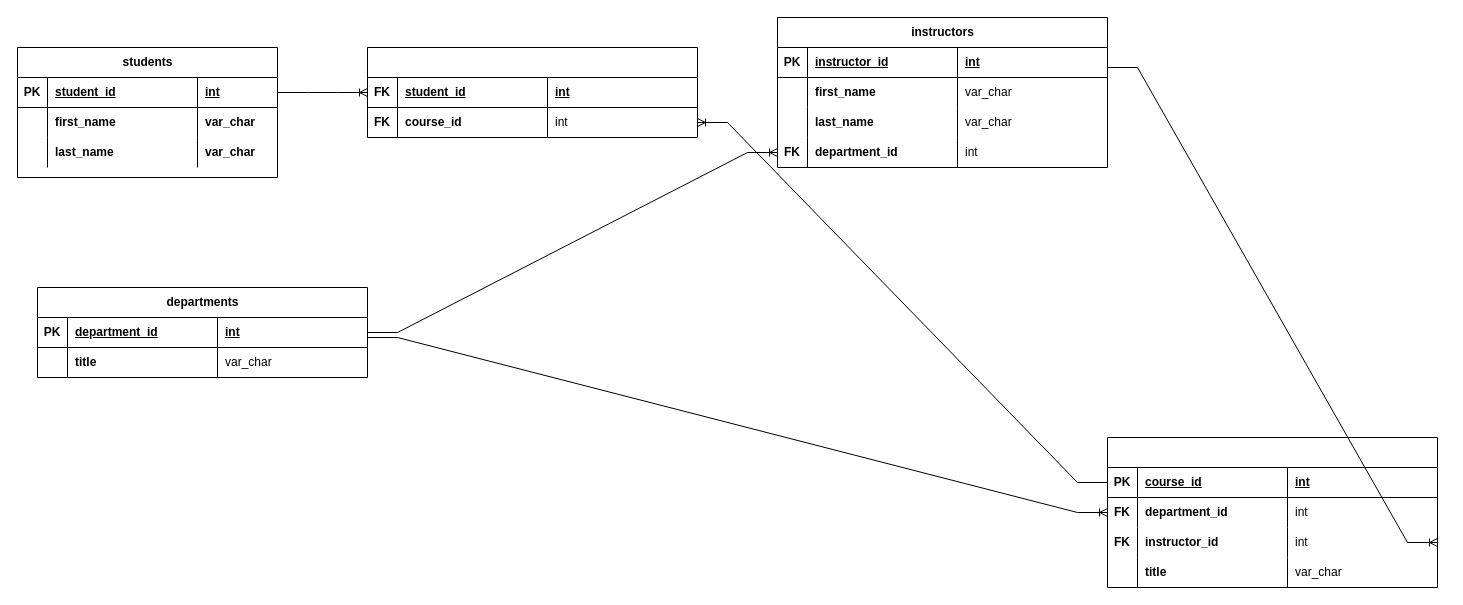
This 1463x605 diagram has some shape labels left out. Here are the shapes that lost their labels. From the top down, the box of each, then its label:
(366, 46, 698, 138): student_courses
(1106, 436, 1438, 588): courses
